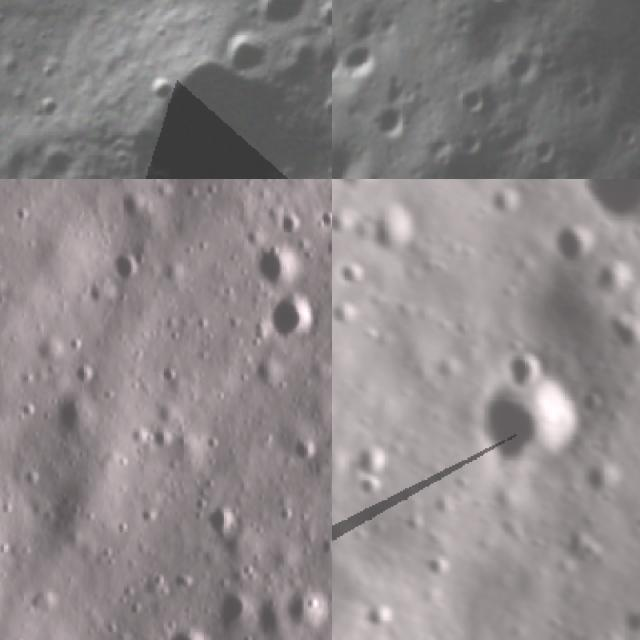crater: (103, 36, 332, 179), (470, 370, 594, 480), (583, 18, 640, 160), (257, 280, 321, 350), (361, 198, 424, 268), (213, 21, 279, 87), (243, 240, 310, 304), (572, 179, 640, 240), (246, 0, 328, 48), (270, 580, 332, 640), (543, 215, 603, 277), (583, 253, 640, 312), (16, 77, 73, 134), (495, 36, 551, 94), (23, 128, 86, 179), (552, 525, 609, 581), (367, 94, 419, 154), (194, 496, 251, 550), (303, 0, 332, 105), (205, 585, 256, 640), (501, 143, 578, 179), (347, 436, 403, 485), (338, 26, 384, 84), (496, 352, 550, 401), (450, 74, 501, 119), (341, 468, 394, 510), (601, 309, 640, 366), (98, 246, 146, 291), (357, 594, 403, 640), (332, 248, 373, 297), (582, 459, 624, 505), (284, 428, 326, 472), (486, 180, 523, 227), (151, 617, 223, 640), (332, 295, 367, 341), (417, 549, 457, 587), (332, 179, 387, 204), (332, 203, 363, 245), (468, 0, 527, 22)
